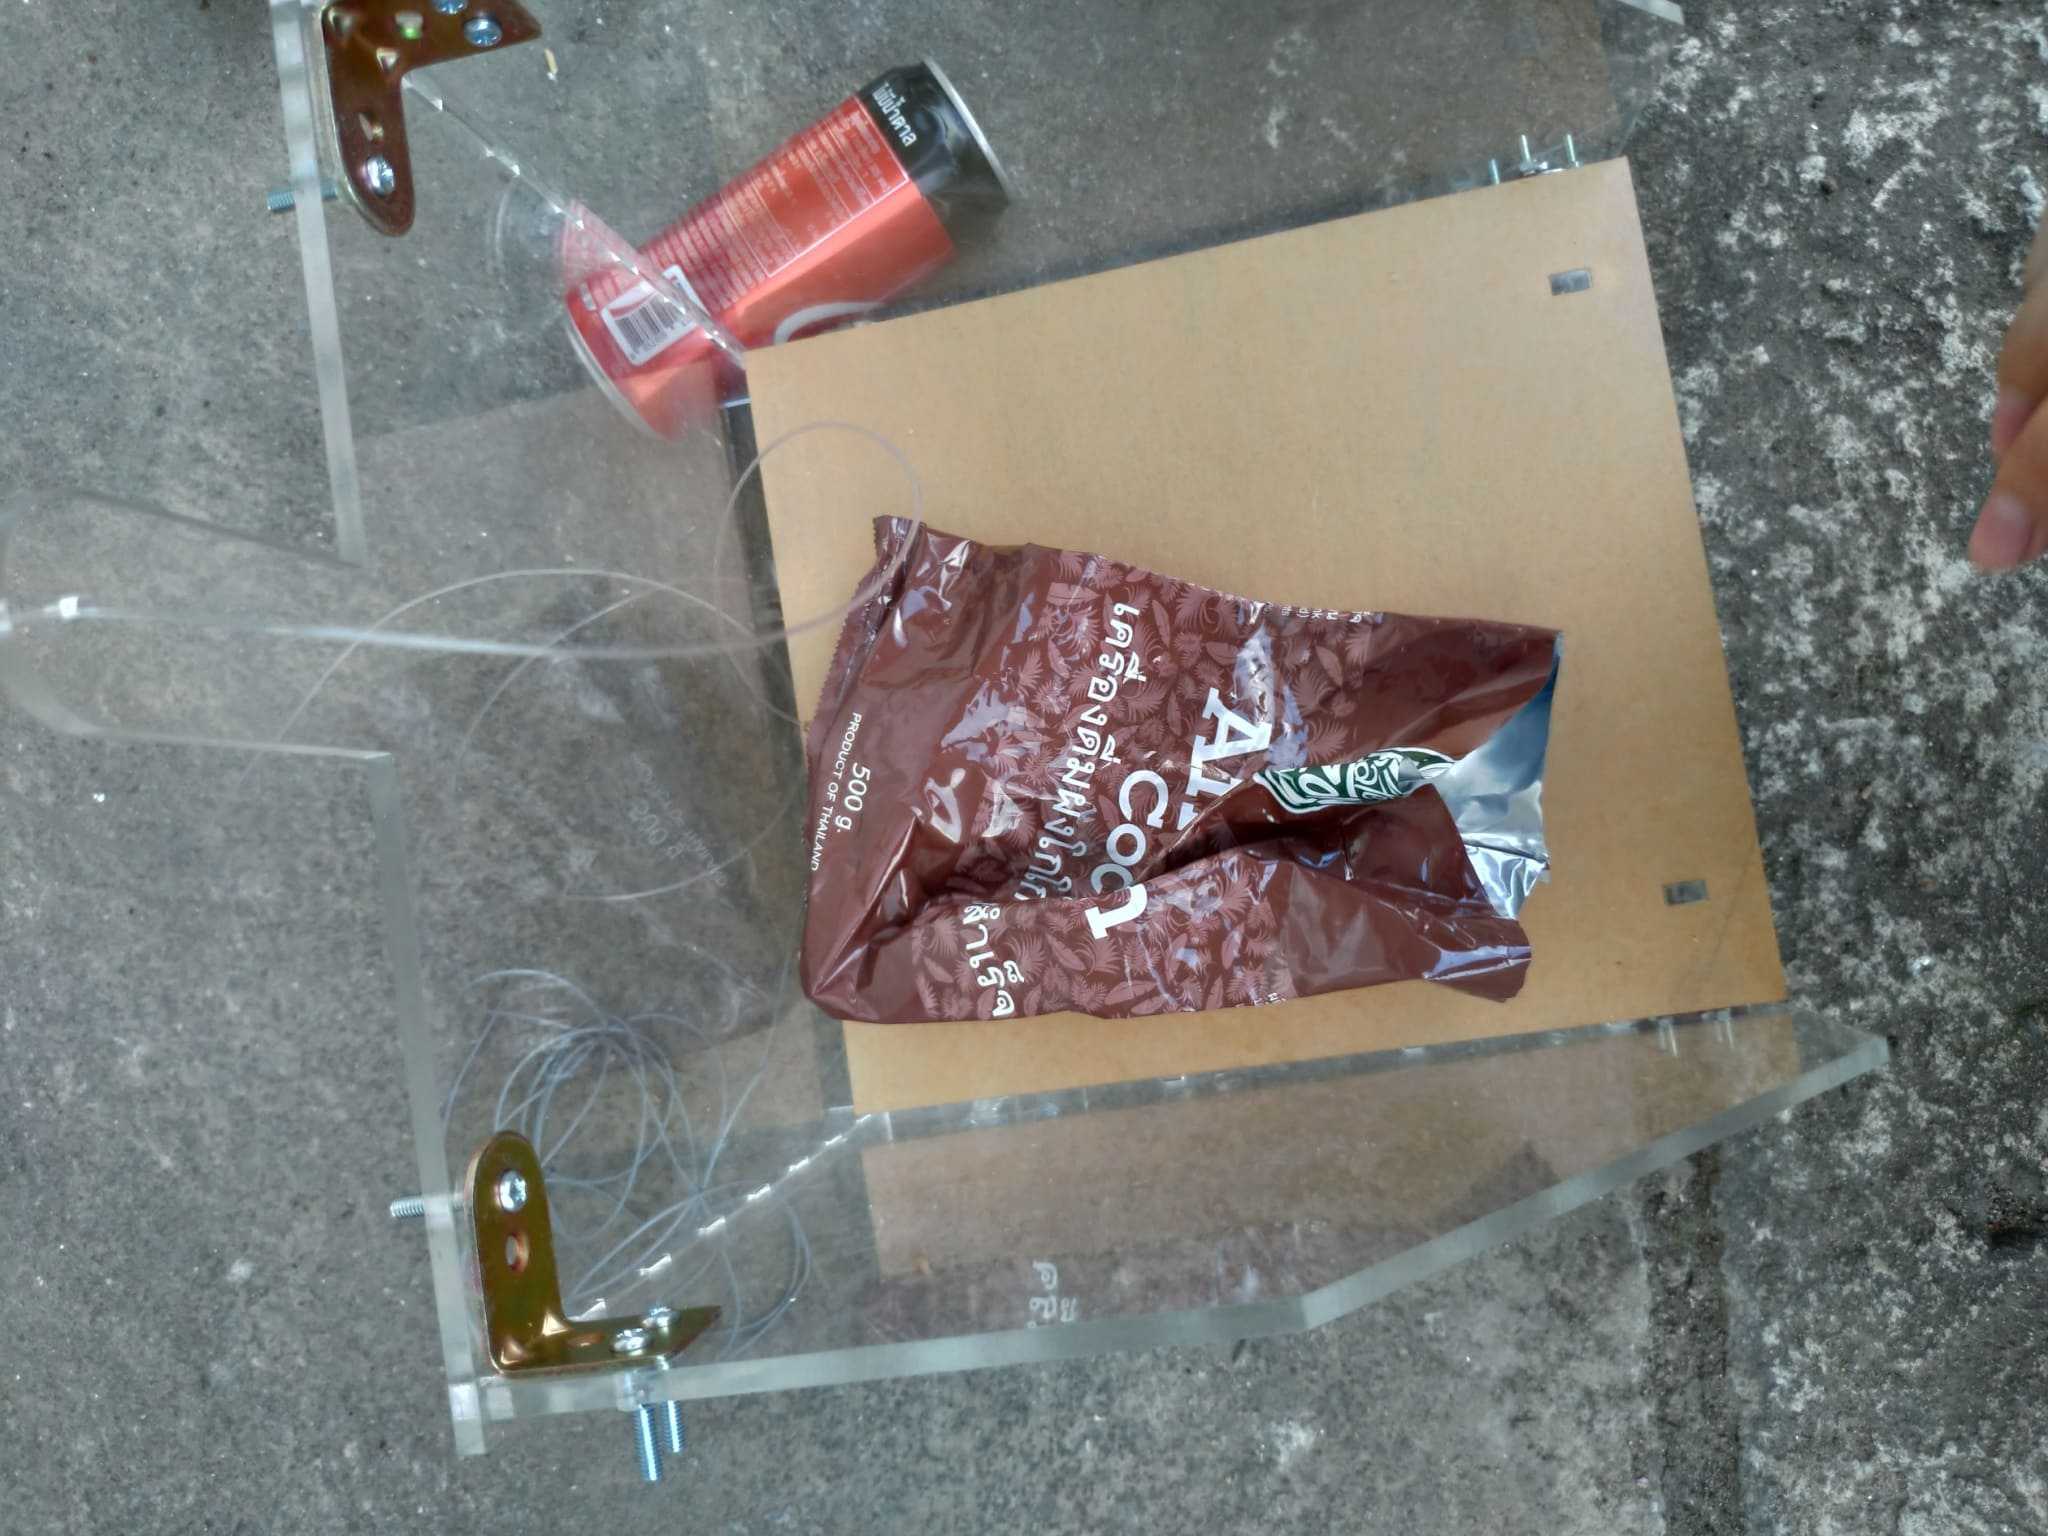AlCan: (560, 47, 1022, 436)
Others: (801, 515, 1567, 1010)
